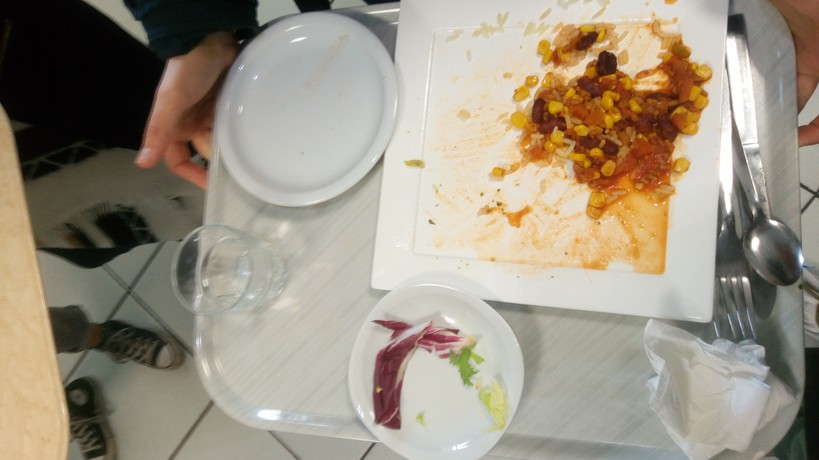cup: (148, 217, 290, 310)
cutlery: (713, 20, 789, 347)
orga: (533, 37, 707, 213), (373, 317, 500, 440)
trash: (644, 324, 781, 453)
